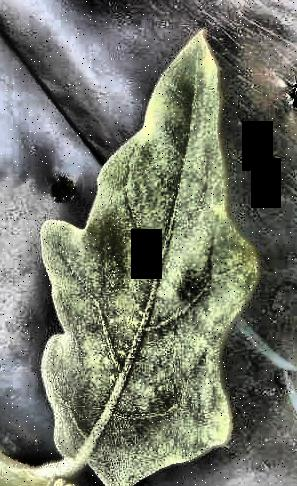HEALTHY: (1, 0, 297, 486)
